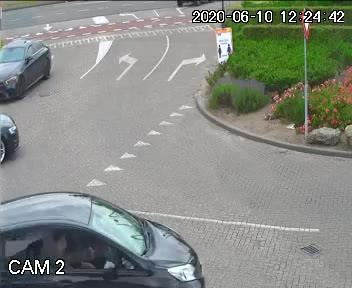car: (0, 178, 214, 288), (0, 34, 64, 109)
